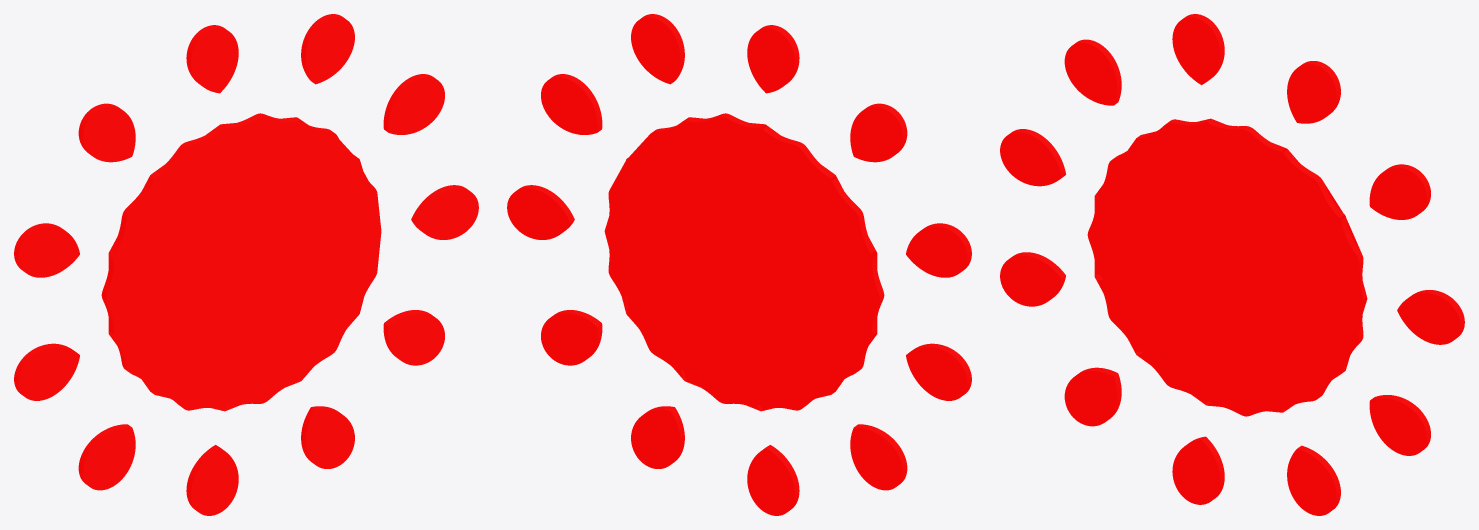
Rendered from fSun.glb.
3 views of the same model, side by side, from view 1: azimuth 30°, elevation 25°; view 2: azimuth 150°, elevation 25°; view 3: azimuth 330°, elevation 25° (orthographic).
Bounding box in the file's own units: 2.96 × 2.99 × 0.05.
